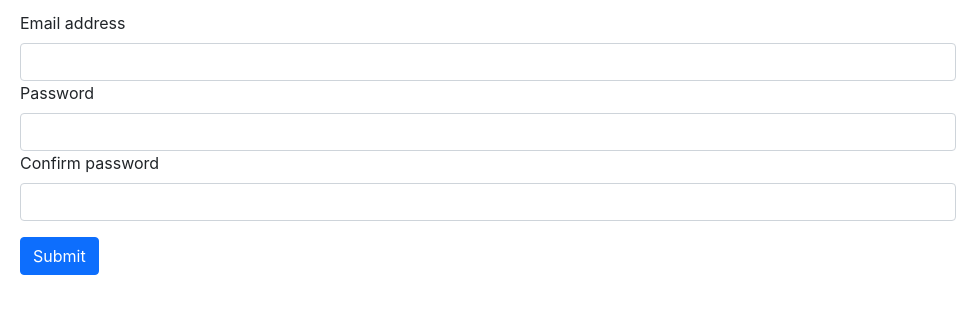
Test: App-Test › Error Handling › Should be an error message on invalid password and initialy not error message
Check: the text "the password you entered should contain 5 or more character" is not shown
Type "test@test.com" into the field labelled "Email address" at (488, 62), box [20, 43, 956, 81]
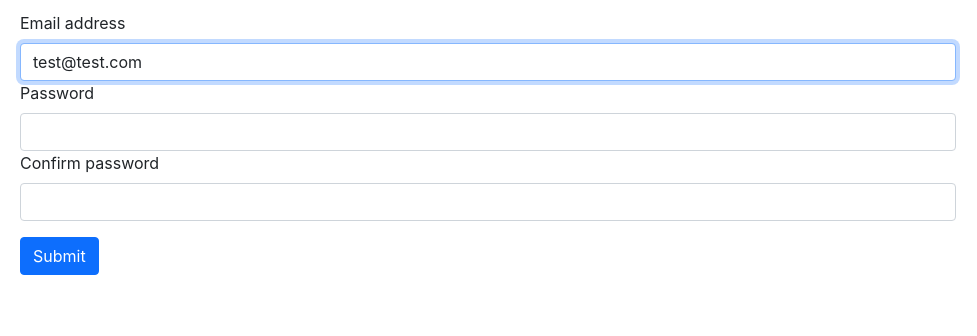
Type "test" into the password field labelled "Password" at (488, 132), box [20, 113, 956, 151]
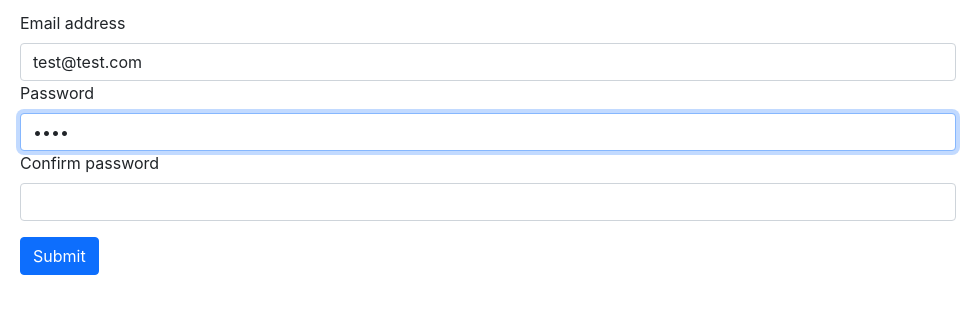
Click the button "Submit" at (59, 256), box [20, 237, 99, 275]
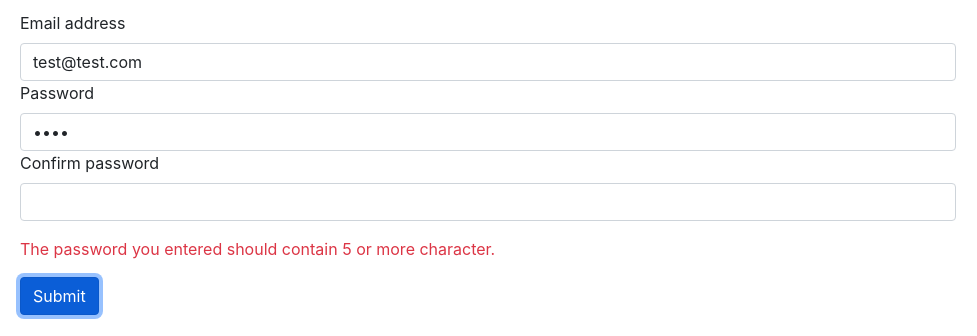
Check: the text "The password you entered should contain 5 or more character." is shown, box [20, 239, 495, 259]
